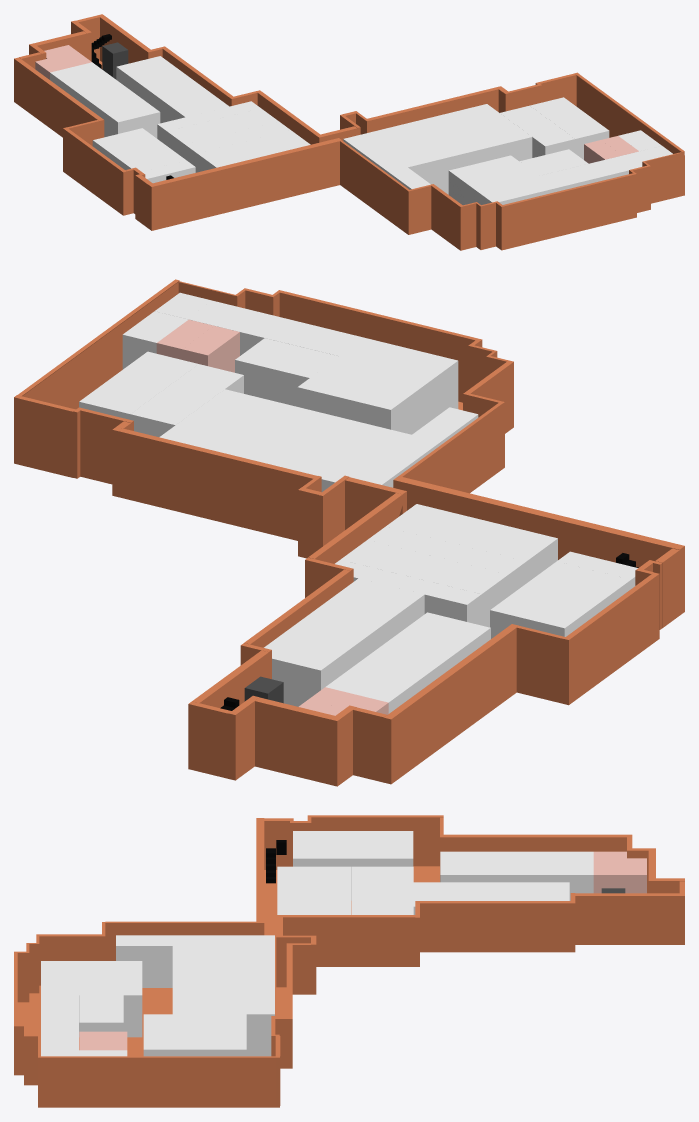
3 renders of one model, top to bottom at view 1: azimuth 30°, elevation 25°; view 2: azimuth 150°, elevation 25°; view 3: azimuth 270°, elevation 25°, orthographic. The views are drawn at different scales.
Visible parts, largest first — view 1: object, CALL教室A, CALL教室B, CALL教室C, 電気室, 地理実習室, 考古学実習室, CALL事務室, 機械室, 自然科学教育研究室, CALL実習室, CALL教室D (+12 smaller); view 2: object, CALL教室C, CALL教室A, 電気室, 考古学実習室, CALL教室B, 倉庫, 地理実習室, 機械室, CALL事務室, 自然科学教育研究室, ライブラリー (+11 smaller); view 3: object, CALL教室B, CALL教室A, CALL教室C, 考古学実習室, 地理実習室, CALL実習室, 電気室, 機械室, 機械室.001, CALL事務室, 自然科学教育研究室 (+11 smaller).
Part boxes in pixels (x1,y1,x2,y2): object: [14, 14, 684, 250]; CALL教室A: [343, 120, 466, 194]; CALL教室B: [422, 104, 532, 165]; CALL教室C: [448, 155, 555, 205]; 電気室: [128, 65, 229, 123]; 地理実習室: [72, 78, 160, 138]; 考古学実習室: [92, 128, 186, 171]; CALL事務室: [539, 146, 668, 191]; 機械室: [197, 130, 310, 172]; 自然科学教育研究室: [167, 108, 278, 158]; CALL実習室: [530, 97, 609, 159]; CALL教室D: [500, 105, 575, 157]; object: [14, 279, 684, 786]; CALL教室C: [297, 338, 458, 434]; CALL教室A: [257, 413, 440, 491]; 電気室: [273, 578, 424, 676]; 考古学実習室: [490, 561, 631, 638]; CALL教室B: [159, 389, 322, 460]; 倉庫: [264, 560, 481, 706]; 地理実習室: [358, 612, 490, 689]; 機械室: [385, 504, 557, 582]; CALL事務室: [155, 300, 364, 356]; 自然科学教育研究室: [340, 540, 508, 627]; ライブラリー: [235, 338, 338, 406]; object: [14, 815, 684, 1107]; CALL教室B: [172, 978, 274, 1056]; CALL教室A: [172, 935, 274, 978]; CALL教室C: [41, 961, 142, 1037]; 考古学実習室: [313, 831, 413, 900]; 地理実習室: [440, 851, 544, 882]; CALL実習室: [143, 1031, 246, 1056]; 電気室: [413, 882, 542, 914]; 機械室: [277, 866, 324, 914]; 機械室.001: [116, 935, 172, 987]; CALL事務室: [41, 995, 78, 1056]; 自然科学教育研究室: [351, 866, 391, 914].
Bounding box in the file's own units: 2.22 × 0.2157 × 2.59.
